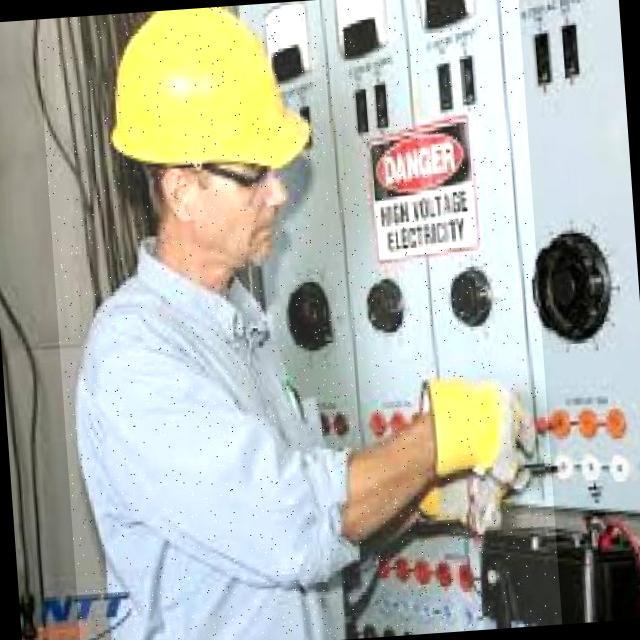Helmet: (102, 1, 319, 184)
Person: (23, 0, 569, 640)
no-vest: (64, 223, 369, 640)
